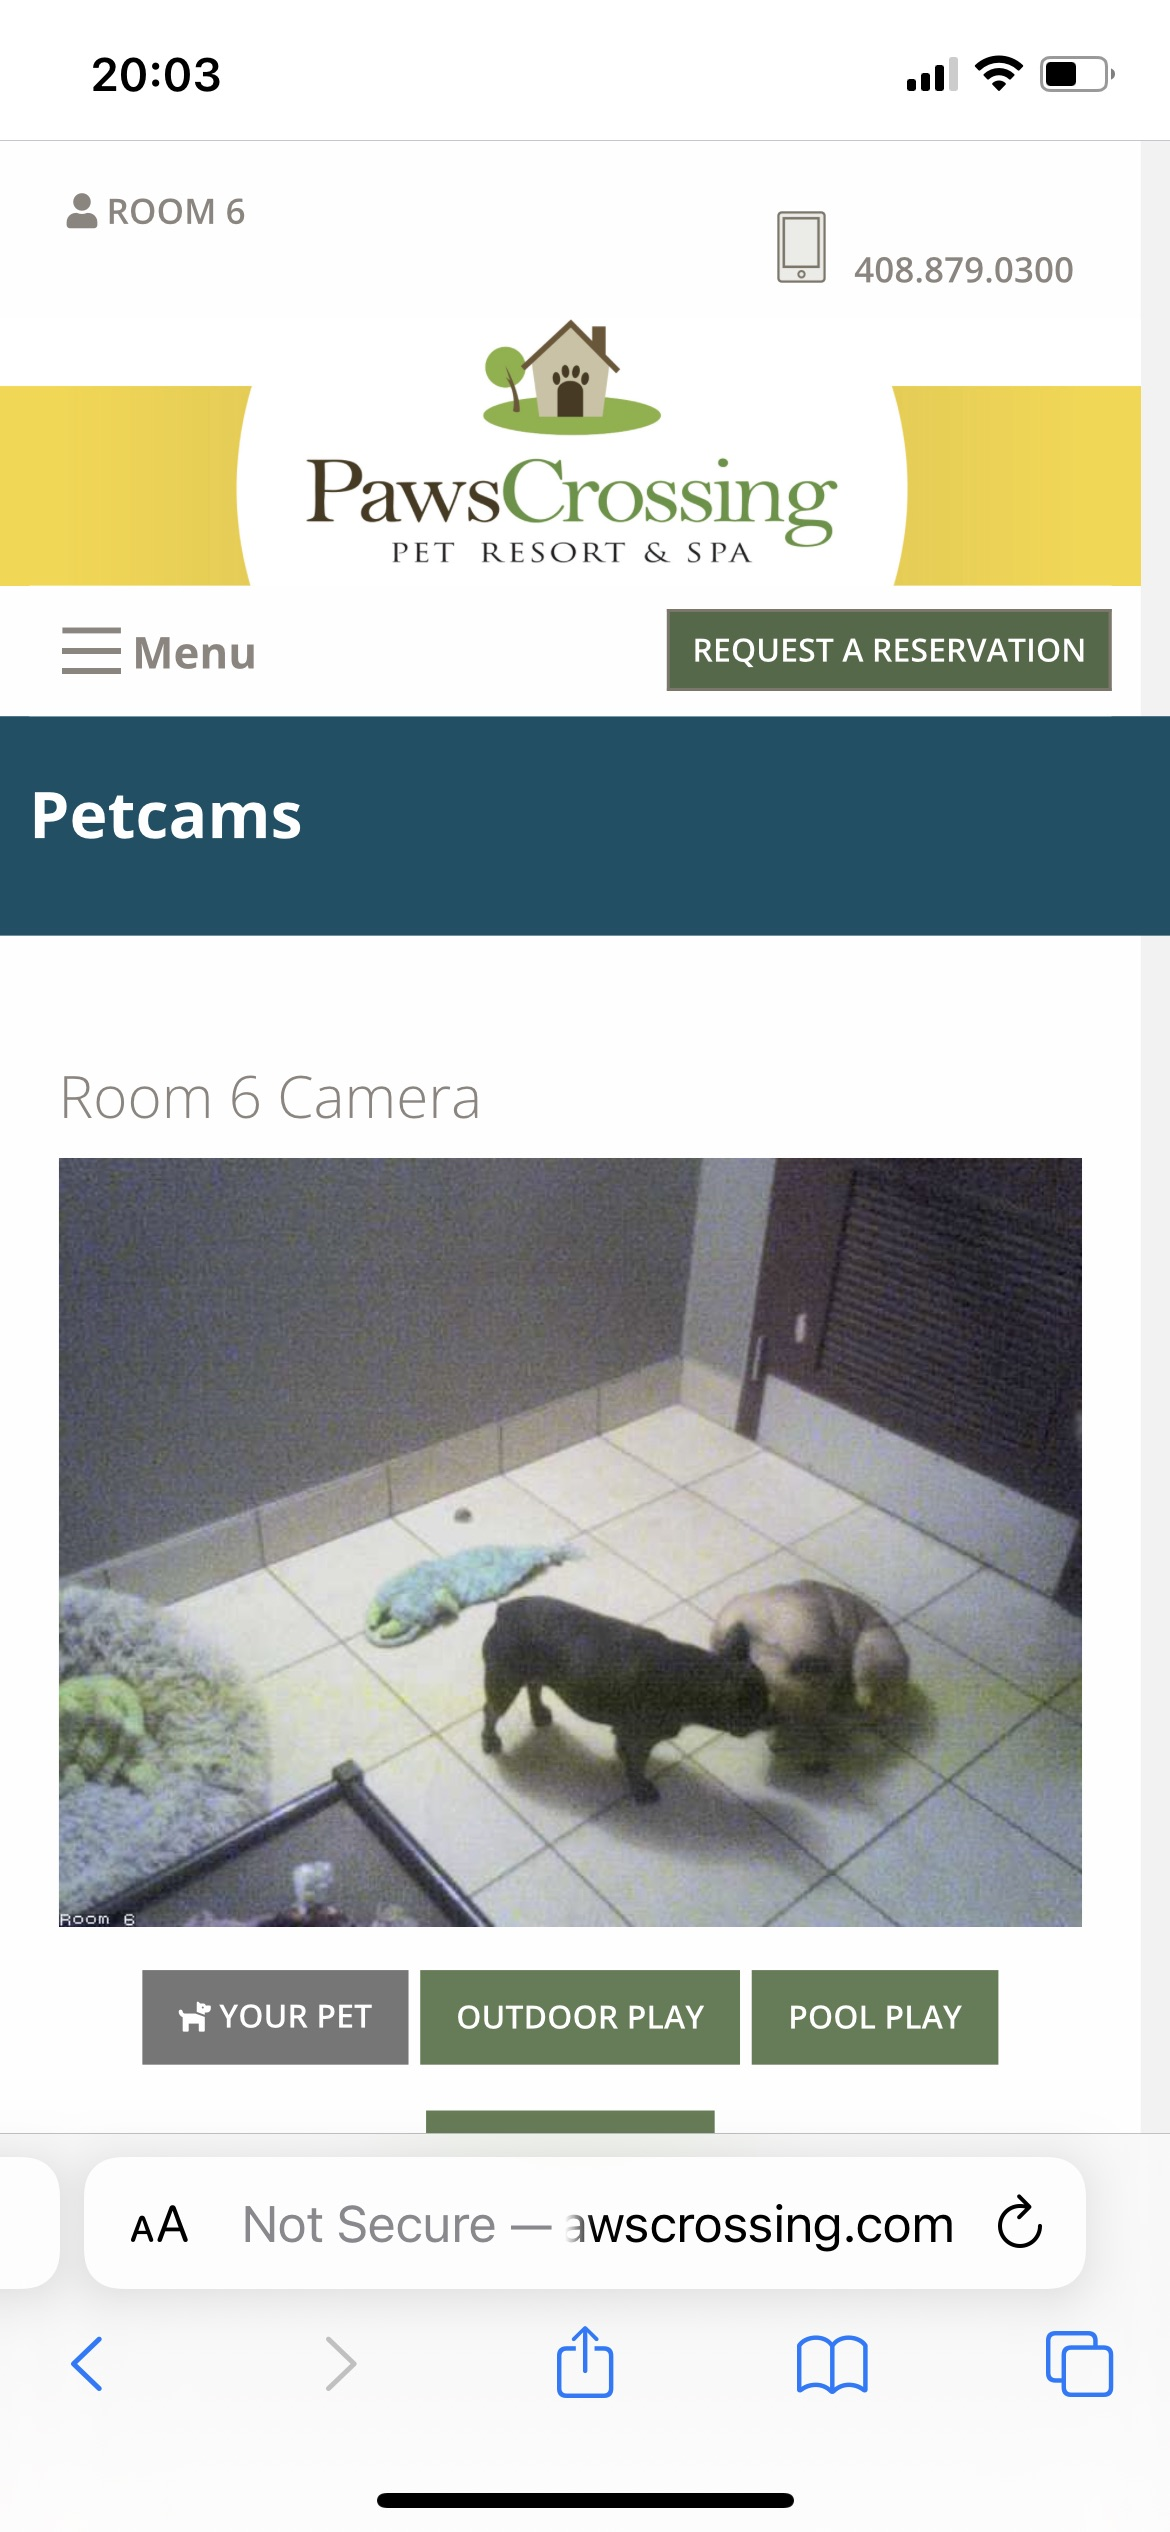lucy: (474, 1586, 779, 1823)
